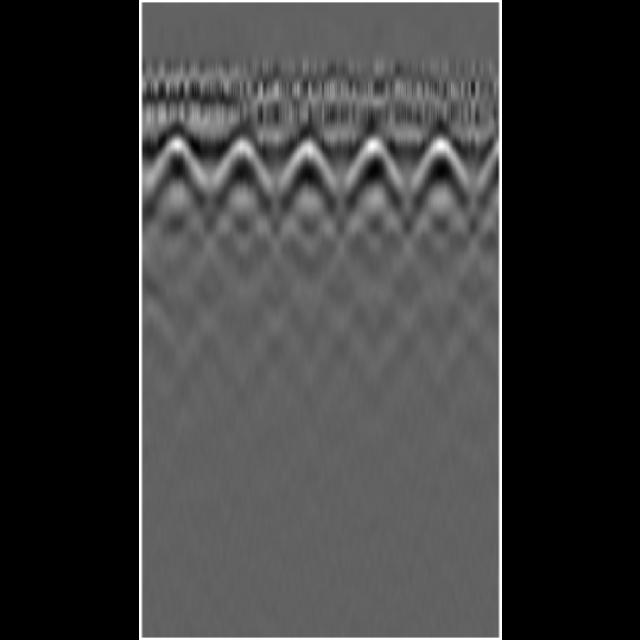hyperbola: (208, 129, 272, 205), (273, 133, 337, 209), (144, 130, 208, 204), (409, 130, 471, 206), (342, 132, 404, 206)
